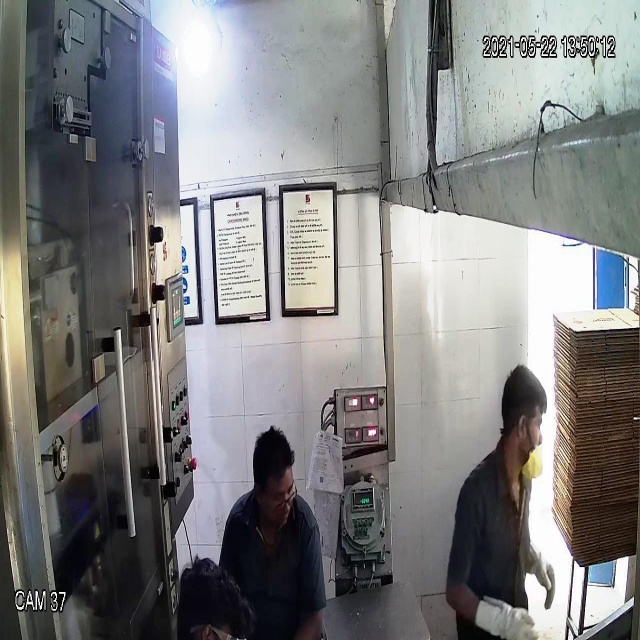Gafas: (254, 477, 300, 519)
